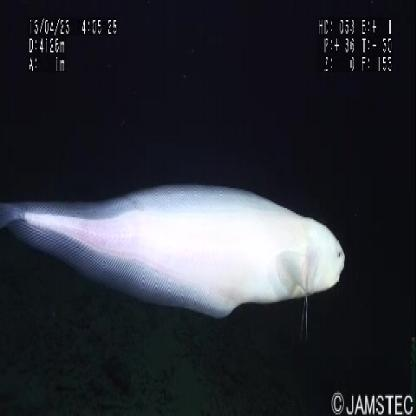Bio: (1, 178, 350, 324)
